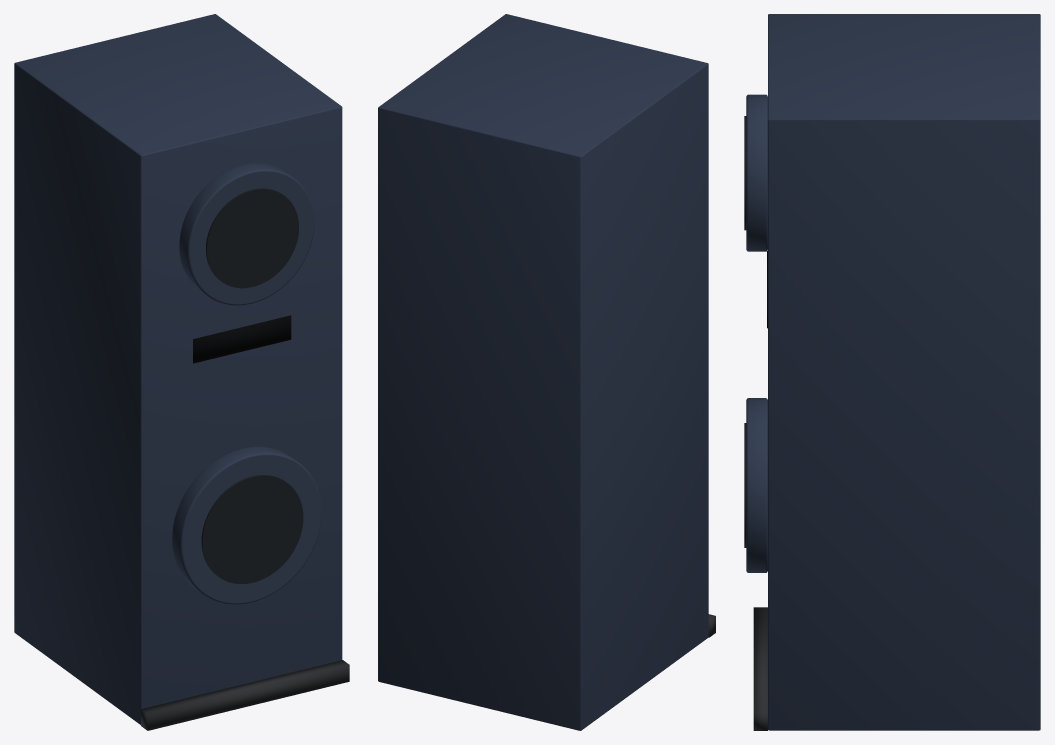
File: WA2525YMP6R.glb
3 renders of one model, left to right at view 1: azimuth 30°, elevation 25°; view 2: azimuth 150°, elevation 25°; view 3: azimuth 270°, elevation 25°, orthographic. The views are drawn at different scales.
Visible parts, largest first — view 1: WA2525YMP6G; view 2: WA2525YMP6G; view 3: WA2525YMP6G.
Part boxes in pixels (<box>): WA2525YMP6G: <box>14,14,349,730</box>; WA2525YMP6G: <box>378,14,715,730</box>; WA2525YMP6G: <box>744,14,1040,730</box>.
Size of the model in its own units: 0.7 by 1.89 by 0.83.
